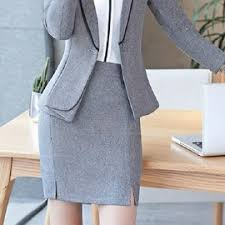F_tailored skirt: (30, 57, 147, 215)
